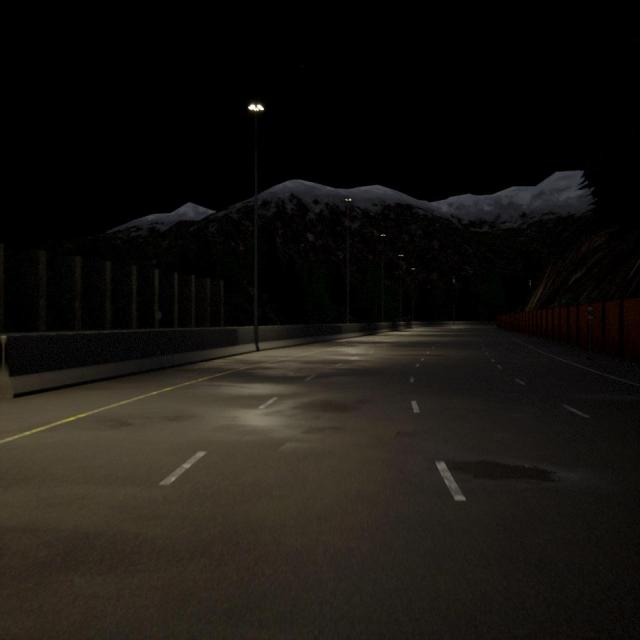Traffic_Signs: (584, 307, 594, 319), (155, 312, 161, 320)
